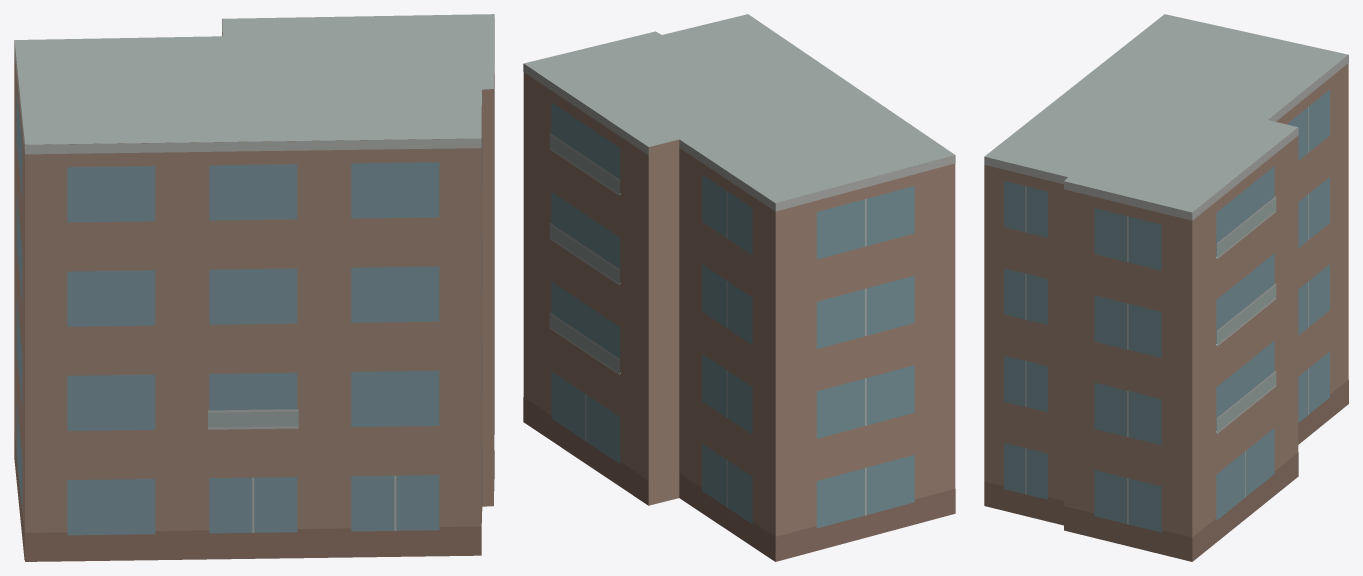
The model's file is survey-upis-32543879.glb.
3 renders of one model, left to right at view 1: azimuth 30°, elevation 25°; view 2: azimuth 150°, elevation 25°; view 3: azimuth 270°, elevation 25°, orthographic. The views are drawn at different scales.
Parts seen in each view (by area): view 1: survey-upis-32543879.tmp; view 2: survey-upis-32543879.tmp; view 3: survey-upis-32543879.tmp.
Boxes of the visible parts, x1,y1,x2,y2 form: survey-upis-32543879.tmp: [14, 14, 494, 561]; survey-upis-32543879.tmp: [523, 14, 955, 561]; survey-upis-32543879.tmp: [984, 14, 1348, 561].
Bounding box in the file's own units: 12.81 × 10.5 × 9.94.
